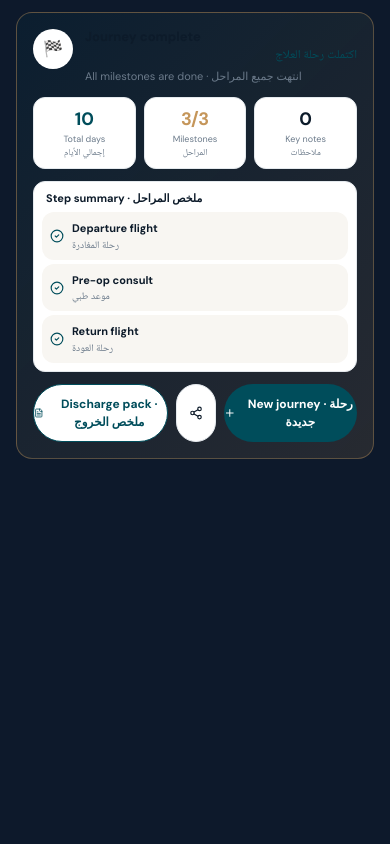
Test: JourneyCompleteCard — discharge pack E2E › opens the share menu with all transports
Click the button with test id "discharge-pack-share" at (196, 413), box x1=176 y1=384 x2=216 y2=442
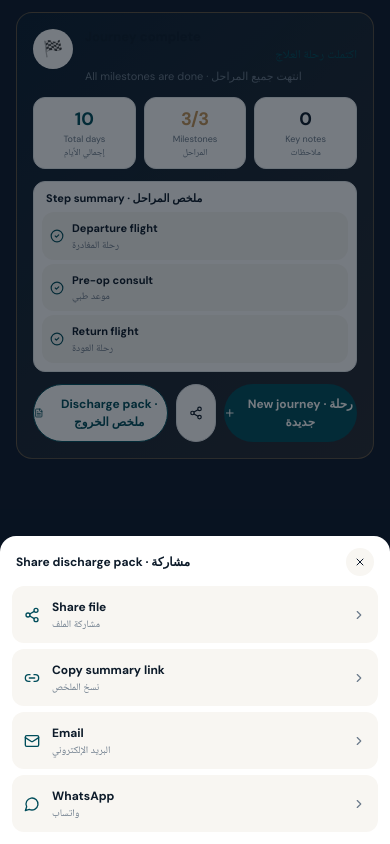
Result: the element with test id "discharge-pack-share-menu" is shown at x1=0 y1=536 x2=389 y2=843
Result: the button with test id "discharge-pack-share-copy" is shown at x1=12 y1=649 x2=378 y2=706
Result: the button with test id "discharge-pack-share-email" is shown at x1=12 y1=712 x2=378 y2=769
